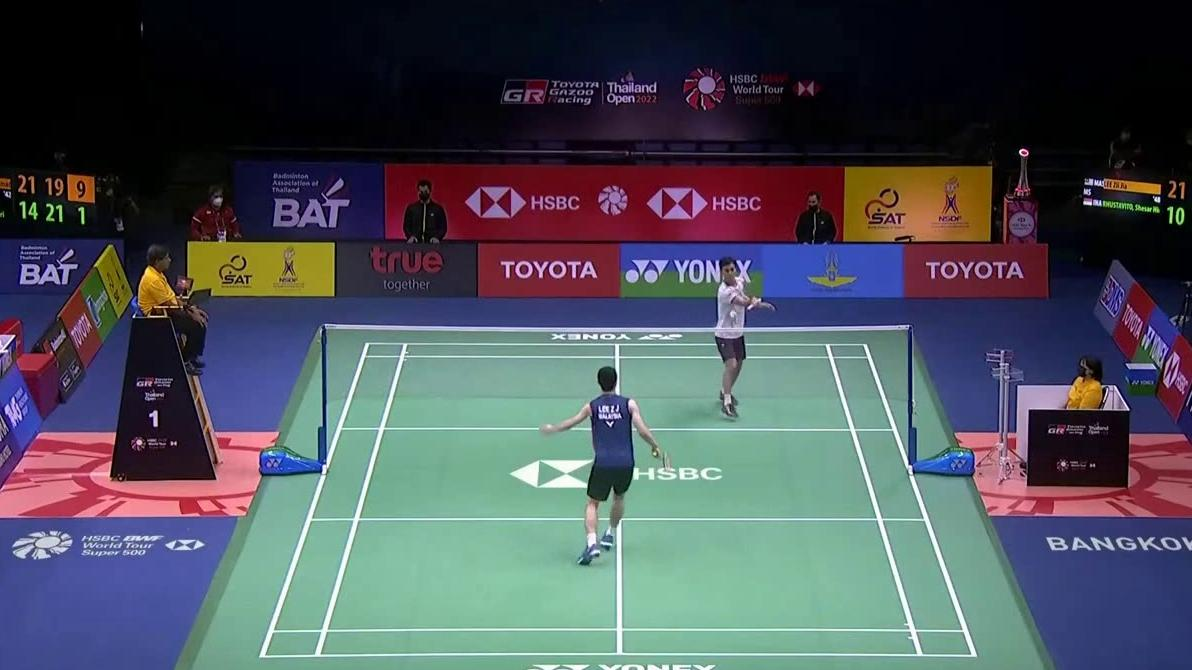racket: (709, 298, 762, 337), (652, 449, 671, 473)
shuttle: (729, 309, 738, 319)
